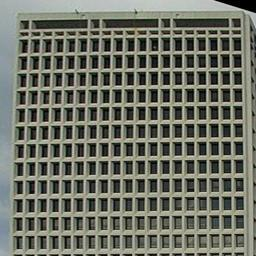building: (9, 11, 246, 255)
